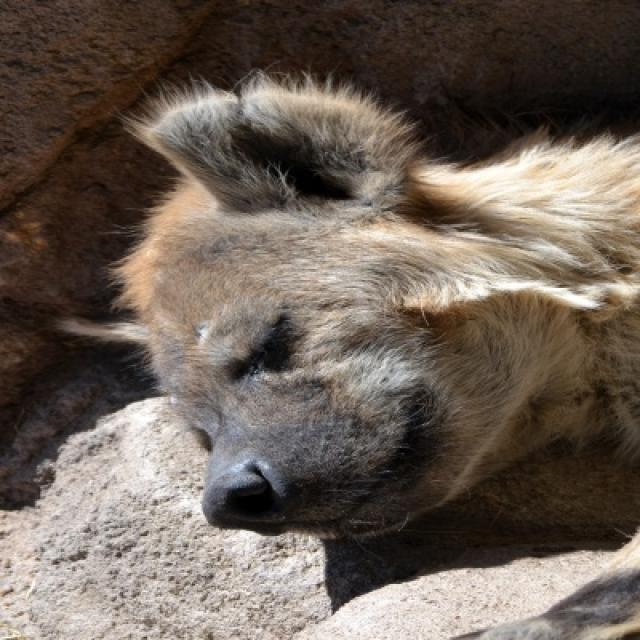hyena: (107, 74, 638, 614)
